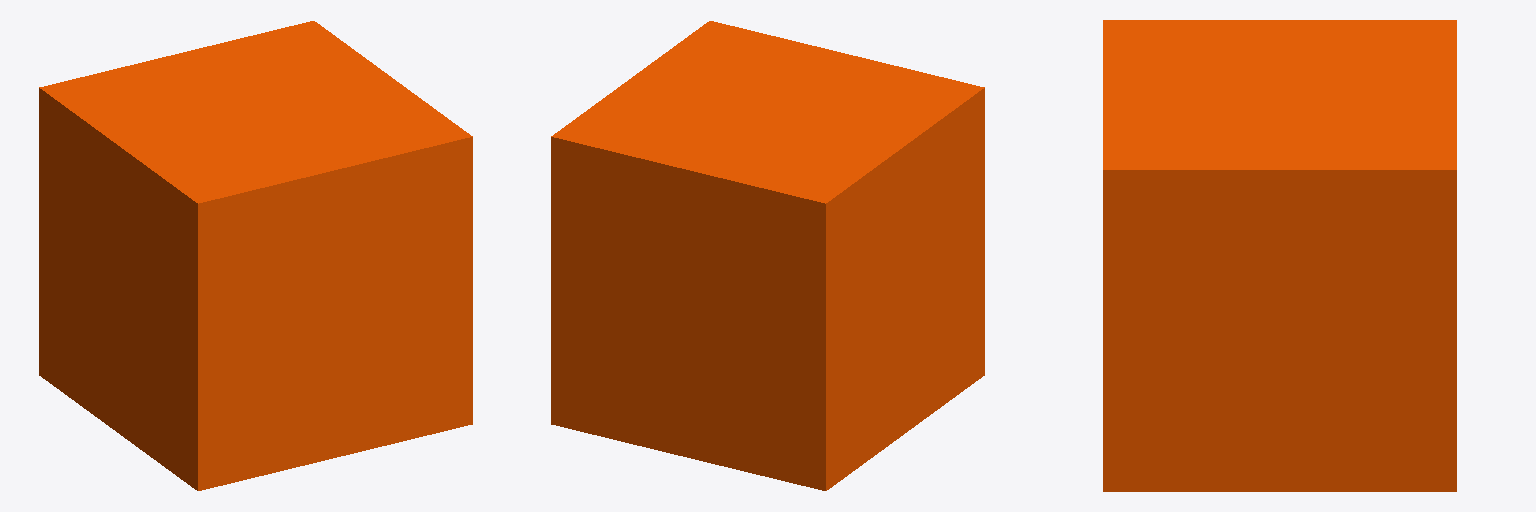
The robot description file, URDF, robot "sensor":
<?xml version="1.0" encoding="utf-8"?>
<!-- =================================================================================== -->
<!-- |    This document was autogenerated by xacro from model.urdf.xacro               | -->
<!-- |    EDITING THIS FILE BY HAND IS NOT RECOMMENDED                                 | -->
<!-- =================================================================================== -->
<robot name="sensor">
  <!-- camera -->
  <!-- Used for fixing robot to Gazebo 'base_link' -->
  <link name="world"/>
  <joint name="fixed" type="fixed">
    <parent link="world"/>
    <child link="sensor"/>
  </joint>
  <!-- Base Link -->
  <link name="sensor">
    <collision>
      <origin rpy="0 0 0" xyz="0 0 0.1"/>
      <geometry>
        <box size="0.2 0.2 0.2"/>
      </geometry>
    </collision>
    <visual>
      <origin rpy="0 0 0" xyz="0 0 0.1"/>
      <geometry>
        <box size="0.2 0.2 0.2"/>
      </geometry>
      <material name="orange"/>
    </visual>
    <inertial>
      <origin rpy="0 0 0" xyz="0 0 1"/>
      <mass value="1"/>
      <inertia ixx="1.0" ixy="0.0" ixz="0.0" iyy="1.0" iyz="0.0" izz="1.0"/>
    </inertial>
  </link>
  <material name="orange">
    <color rgba="1.0 0.423529411765 0.0392156862745 1.0"/>
  </material>
  <gazebo reference="sensor">
    <material>Gazebo/Orange</material>
  </gazebo>
  <gazebo>
    <plugin filename="libgazebo_ros_imu.so" name="imu_plugin">
      <alwaysOn>true</alwaysOn>
      <bodyName>sensor</bodyName>
      <topicName>imu</topicName>
      <serviceName>imu_service</serviceName>
      <gaussianNoise>0.0</gaussianNoise>
      <updateRate>20.0</updateRate>
    </plugin>
  </gazebo>
</robot>

--- Facts derived from the render (not from the file) ---
3 views of the same robot in one strip: view 1: azimuth 30°, elevation 25°; view 2: azimuth 150°, elevation 25°; view 3: azimuth 270°, elevation 25° (orthographic).
Model sensor with 2 links and 1 joints (1 fixed), rooted at world, posed every joint at zero.
Visible links, largest first — view 1: sensor; view 2: sensor; view 3: sensor.
Link boxes in pixels (box(x1,y1,x2,y2)): sensor: box(39, 21, 472, 490); sensor: box(551, 21, 984, 490); sensor: box(1103, 20, 1456, 491).
Size in the robot's own frame: 0.2 by 0.2 by 0.2 metres.
Geometry: primitives only (box / cylinder / sphere), no mesh files.